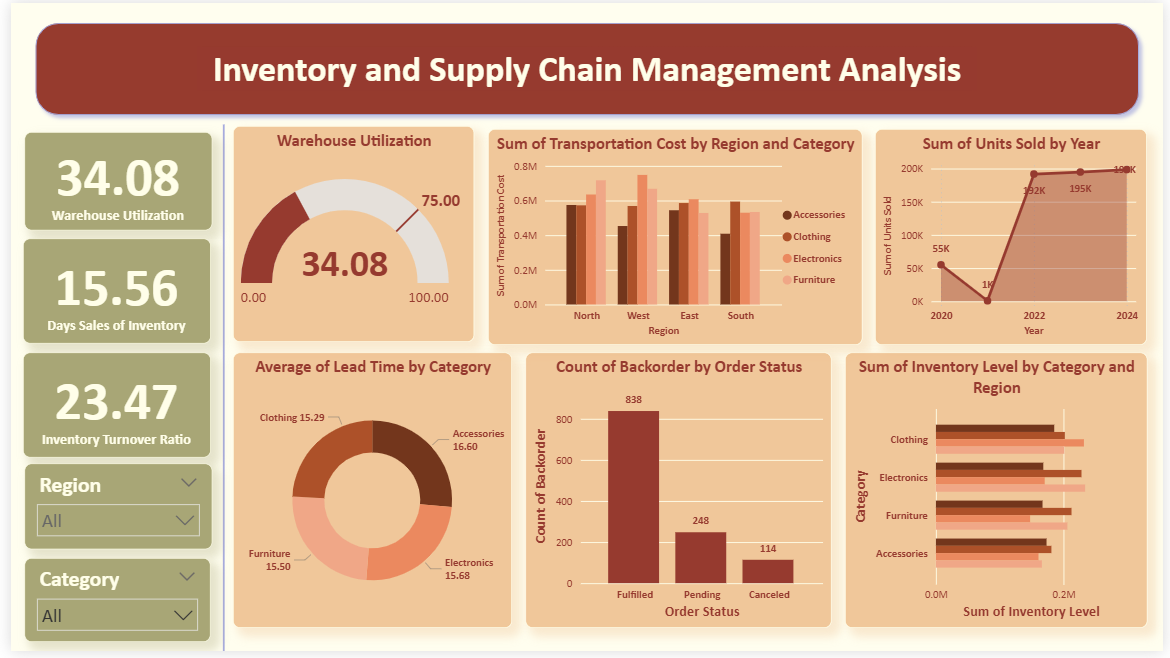

The page's visual inventory and layout, read from the dashboard file:
{"tool":"powerbi","page":{"name":"DB1","canvas":[1280,720],"ordinal":0},"visuals":[{"type":"shape","box":[18,14,1244,120],"z":0},{"type":"textbox","title":"Inventory and Supply Chain Management Analysis","box":[206.4,48.7,866.5,48.7],"z":1000},{"type":"shape","box":[225.9,134.4,19.5,586.1],"z":2000},{"type":"card","fields":{"Values":["Inventory and Supply Chain Dataset.Warehouse Utilization"]},"box":[15.6,144.1,208.4,109],"z":3000},{"type":"card","fields":{"Values":["Inventory and Supply Chain Dataset.Days Sales of Inventory"]},"box":[13.6,260.9,208.4,116.8],"z":4000},{"type":"card","fields":{"Values":["Inventory and Supply Chain Dataset.Inventory Turnover Ratio"]},"box":[13.6,387.5,208.4,116.8],"z":5000},{"type":"slicer","fields":{"Values":["Inventory and Supply Chain Dataset.Region"]},"box":[15.6,512.1,208.4,95.4],"z":6000},{"type":"slicer","fields":{"Values":["Inventory and Supply Chain Dataset.Category"]},"box":[15.6,617.3,206.4,93.5],"z":7000},{"type":"gauge","fields":{"Y":["Inventory and Supply Chain Dataset.Warehouse Utilization"]},"box":[246,136,268,240],"z":8000},{"type":"clusteredColumnChart","fields":{"Y":["Sum(Inventory and Supply Chain Dataset.Transportation Cost)"],"Category":["Inventory and Supply Chain Dataset.Region"],"Series":["Inventory and Supply Chain Dataset.Category"]},"box":[530,140,416,240],"z":9000},{"type":"lineChart","fields":{"Category":["Inventory and Supply Chain Dataset.Date.Variation.Date Hierarchy.Year"],"Y":["Sum(Inventory and Supply Chain Dataset.Units Sold)"]},"box":[960,140,302,240],"z":10000},{"type":"donutChart","fields":{"Y":["Avg(Inventory and Supply Chain Dataset.Lead Time)"],"Category":["Inventory and Supply Chain Dataset.Category"]},"box":[246,388,310,306],"z":11000},{"type":"columnChart","fields":{"Category":["Inventory and Supply Chain Dataset.Order Status"],"Y":["CountNonNull(Inventory and Supply Chain Dataset.Backorder)"]},"box":[572,388,340,306],"z":12000},{"type":"clusteredBarChart","fields":{"Category":["Inventory and Supply Chain Dataset.Category"],"Series":["Inventory and Supply Chain Dataset.Region"],"Y":["Sum(Inventory and Supply Chain Dataset.Inventory Level)"]},"box":[926,388,336,306],"z":13000}]}

Visuals, with their boxes in screenshot pixels (x1, y1, x2, y2), scaled from the page's 1280x720 canvas onto the 1170x658 screenshot:
shape: [16,13,1154,122]
"Inventory and Supply Chain Management Analysis" textbox: [189,45,981,89]
shape: [206,123,224,657]
card - Inventory and Supply Chain Dataset.Warehouse Utilization: [14,132,205,231]
card - Inventory and Supply Chain Dataset.Days Sales of Inventory: [12,238,203,345]
card - Inventory and Supply Chain Dataset.Inventory Turnover Ratio: [12,354,203,461]
slicer - Inventory and Supply Chain Dataset.Region: [14,468,205,555]
slicer - Inventory and Supply Chain Dataset.Category: [14,564,203,650]
gauge - Inventory and Supply Chain Dataset.Warehouse Utilization: [225,124,470,344]
clusteredColumnChart - Sum(Inventory and Supply Chain Dataset.Transportation Cost) x Inventory and Supply Chain Dataset.Region: [484,128,865,347]
lineChart - Inventory and Supply Chain Dataset.Date.Variation.Date Hierarchy.Year x Sum(Inventory and Supply Chain Dataset.Units Sold): [878,128,1154,347]
donutChart - Avg(Inventory and Supply Chain Dataset.Lead Time) x Inventory and Supply Chain Dataset.Category: [225,355,508,634]
columnChart - Inventory and Supply Chain Dataset.Order Status x CountNonNull(Inventory and Supply Chain Dataset.Backorder): [523,355,834,634]
clusteredBarChart - Inventory and Supply Chain Dataset.Category x Inventory and Supply Chain Dataset.Region: [846,355,1154,634]
